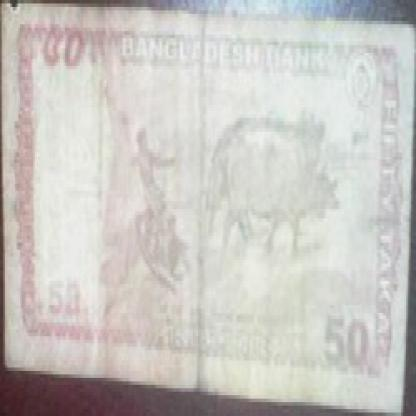Fifty taka: (313, 302, 374, 381), (38, 17, 95, 97)
